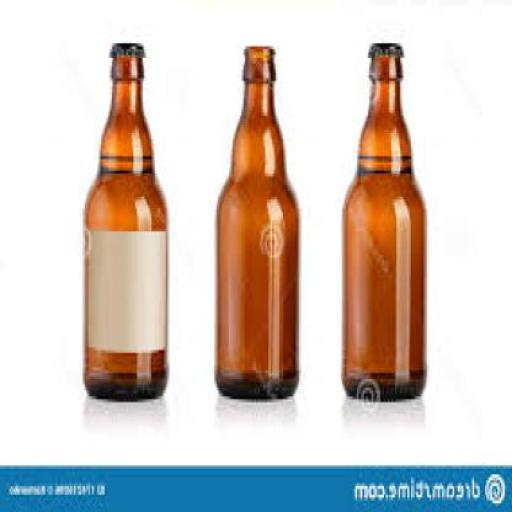glass: (343, 52, 429, 402), (84, 52, 168, 402), (218, 44, 299, 399)
metal: (112, 38, 148, 58), (369, 38, 404, 54)
